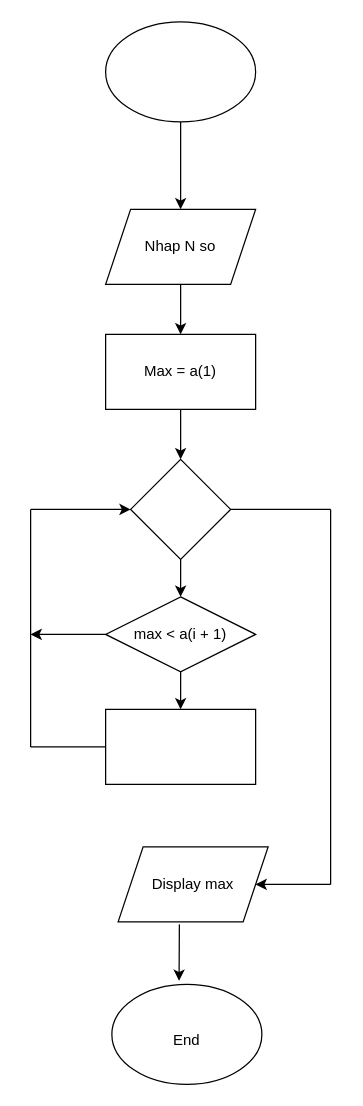
The diagram is 363 pixels wide and 1106 high, and some of its shapes have lost their labels. The centre of each missing label's shape, as x and y in pixels:
"Begin" goes at point (180, 71).
"i < n" goes at point (180, 508).
"max = a( i + 1)" goes at point (180, 746).
